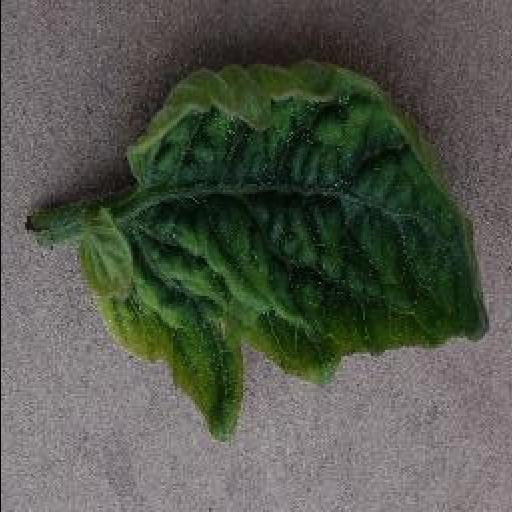disease_tomato: (74, 56, 492, 442)
